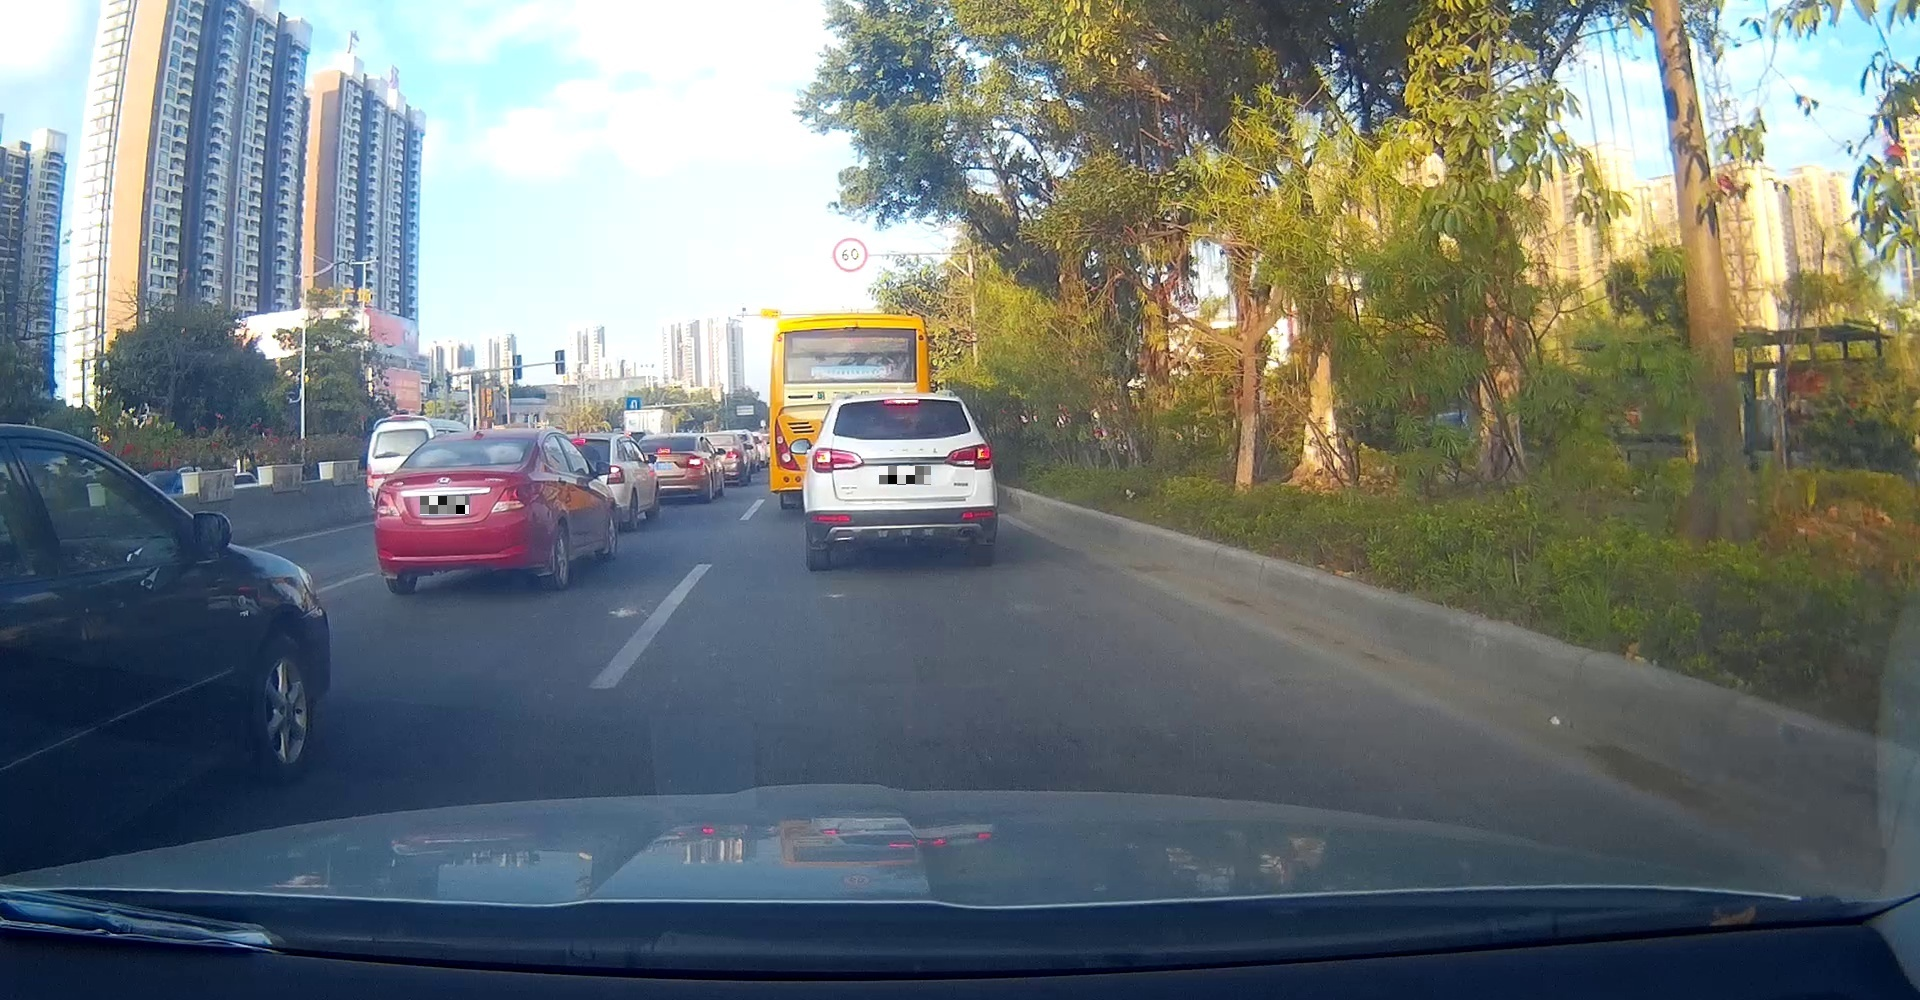L_light: (811, 447, 863, 475), (375, 489, 400, 516)
R_light: (943, 443, 993, 470), (490, 484, 530, 513)
T_light: (883, 398, 918, 404), (447, 462, 472, 466)
day-brake: (808, 393, 998, 571)
day-no: (375, 429, 535, 594)
plate_1: (420, 496, 469, 515)
plate_2: (879, 466, 931, 485)
